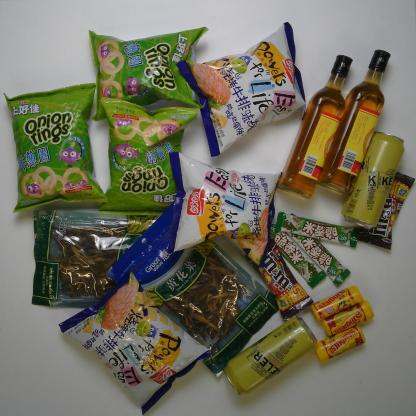Alcohol: (212, 317, 312, 394), (344, 131, 403, 233)
Candy: (317, 329, 372, 360), (311, 284, 364, 316), (324, 309, 376, 334)
Chocolate: (249, 236, 309, 318), (355, 162, 407, 248), (268, 224, 323, 290), (281, 207, 355, 247), (296, 238, 346, 278)
Dried Food: (112, 192, 277, 378), (27, 210, 163, 312)
Puffed Food: (50, 274, 207, 406), (170, 22, 314, 150), (157, 146, 290, 261), (6, 84, 104, 211), (97, 94, 189, 216), (82, 24, 200, 106)
Seasoner: (281, 42, 352, 200), (321, 41, 387, 195)
